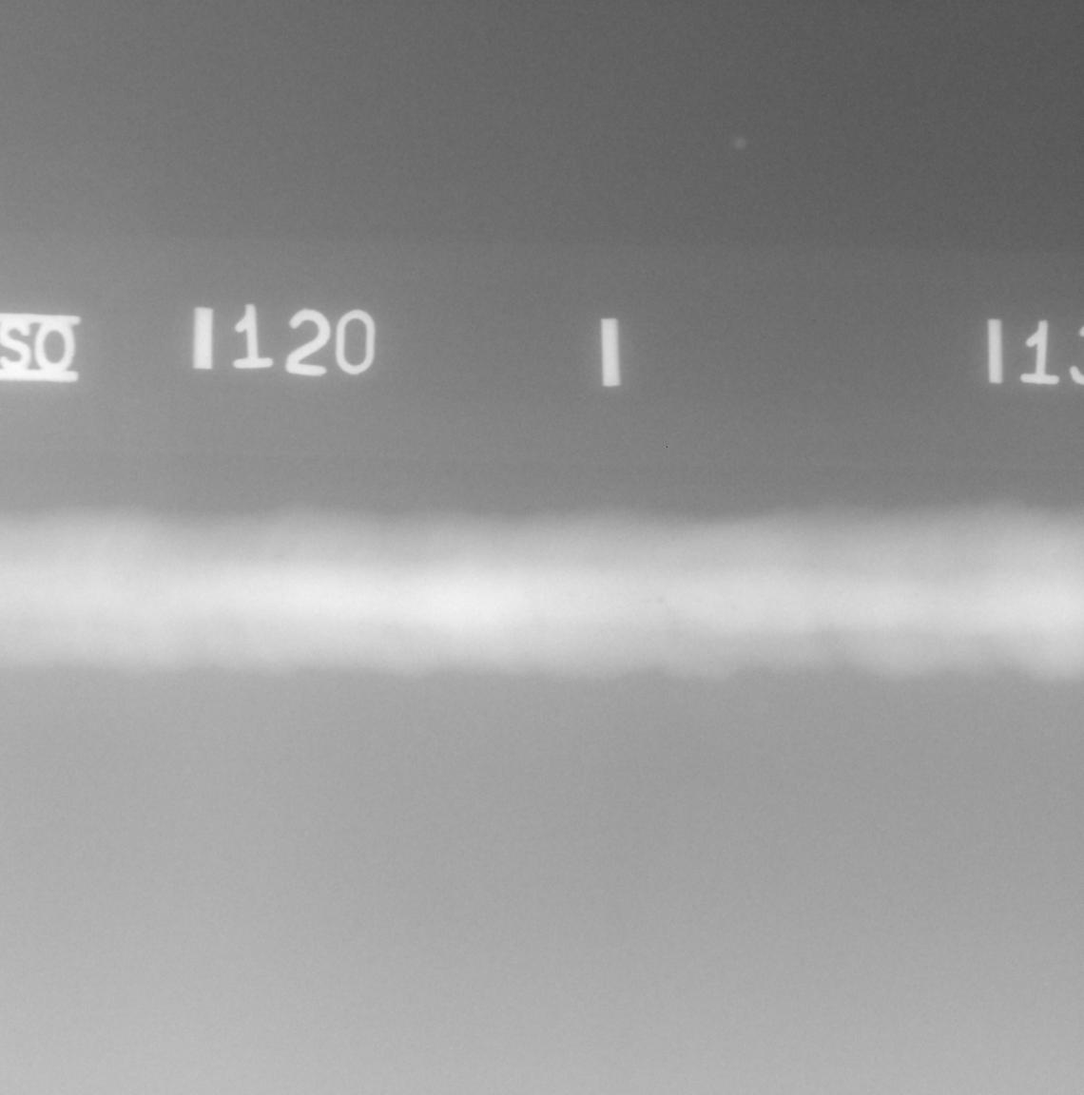Inclusion: (567, 594, 579, 596)
Pore/Porosity: (657, 595, 664, 603), (672, 535, 676, 542), (915, 594, 919, 598)
